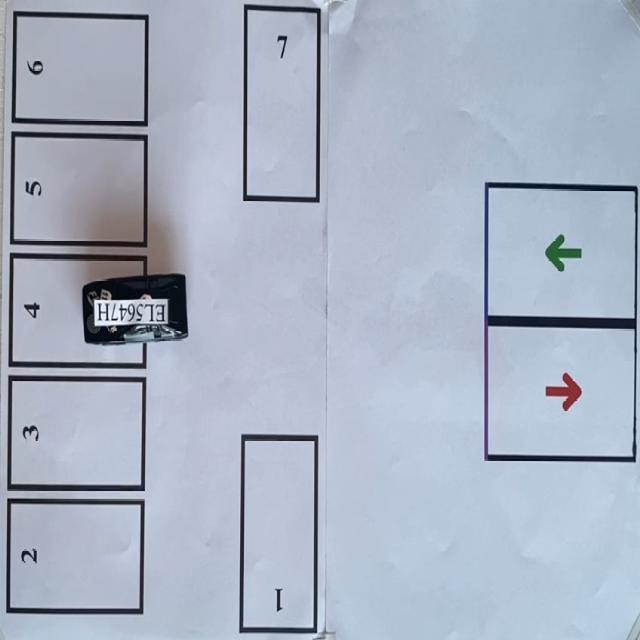car: (80, 268, 190, 349)
